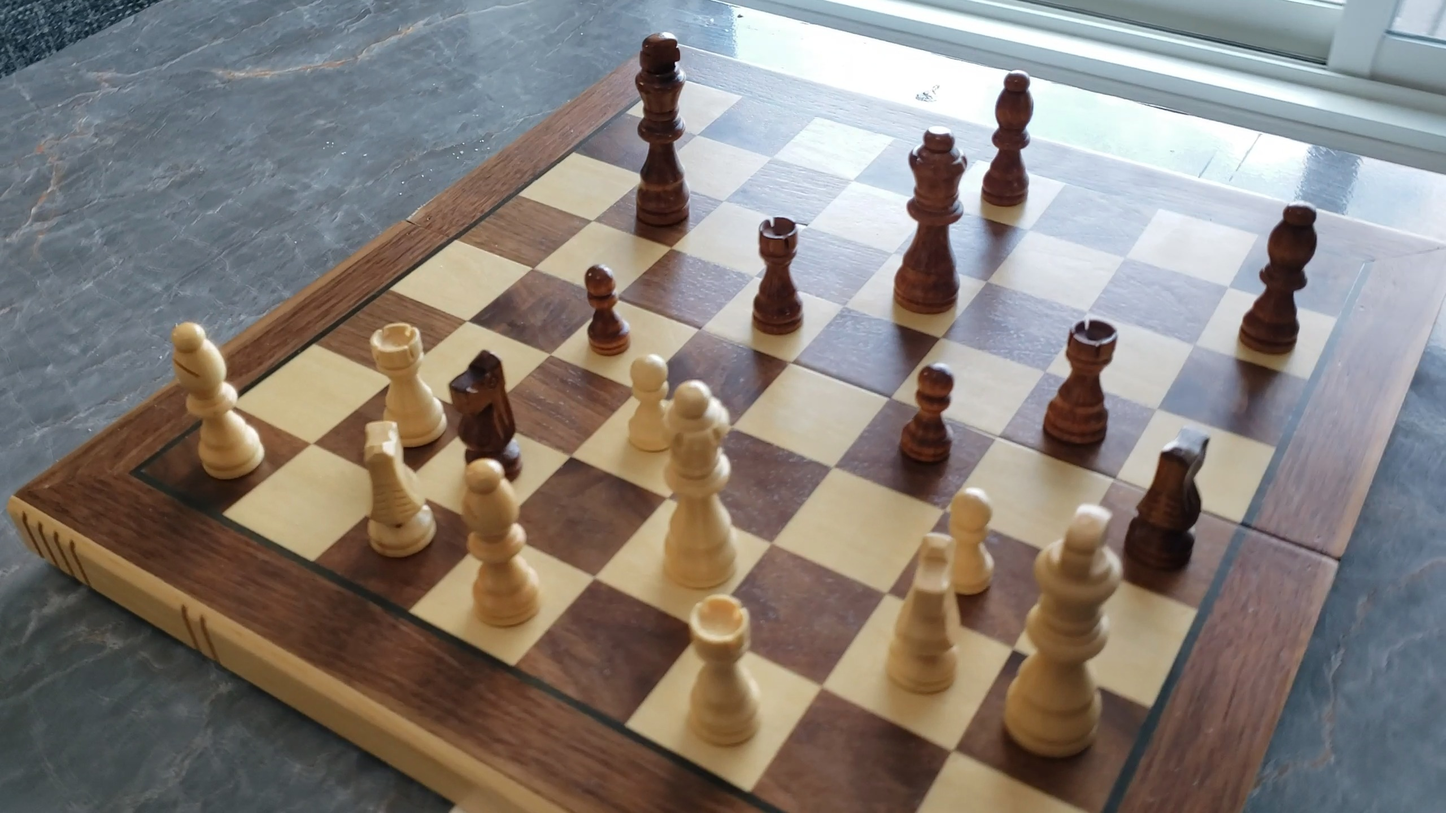black-bishop: (1236, 196, 1322, 353), (982, 64, 1035, 206)
black-king: (620, 12, 702, 236)
black-knight: (1123, 425, 1213, 571), (449, 346, 525, 479)
black-pawn: (898, 360, 958, 466), (581, 260, 631, 358)
black-queen: (891, 124, 969, 316)
black-rook: (1042, 317, 1119, 447), (749, 213, 805, 336)
white-bishop: (163, 316, 268, 484), (456, 455, 547, 631)
white-king: (997, 499, 1133, 766)
white-knight: (882, 531, 966, 699), (355, 418, 438, 562)
white-pawn: (939, 483, 998, 602), (621, 349, 678, 457)
white-queen: (652, 376, 742, 597)
white-rook: (676, 589, 769, 754), (367, 319, 448, 450)
